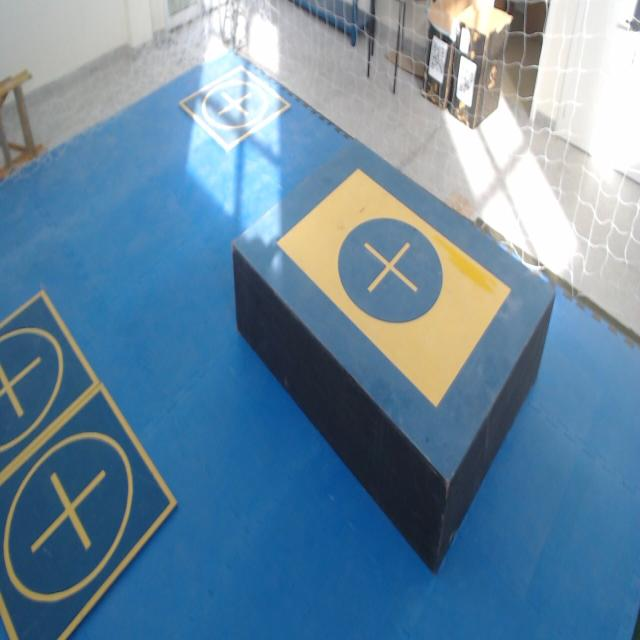base_inicio: (275, 165, 511, 409)
base_pouso: (0, 377, 178, 639), (0, 287, 98, 480), (177, 64, 292, 150)
